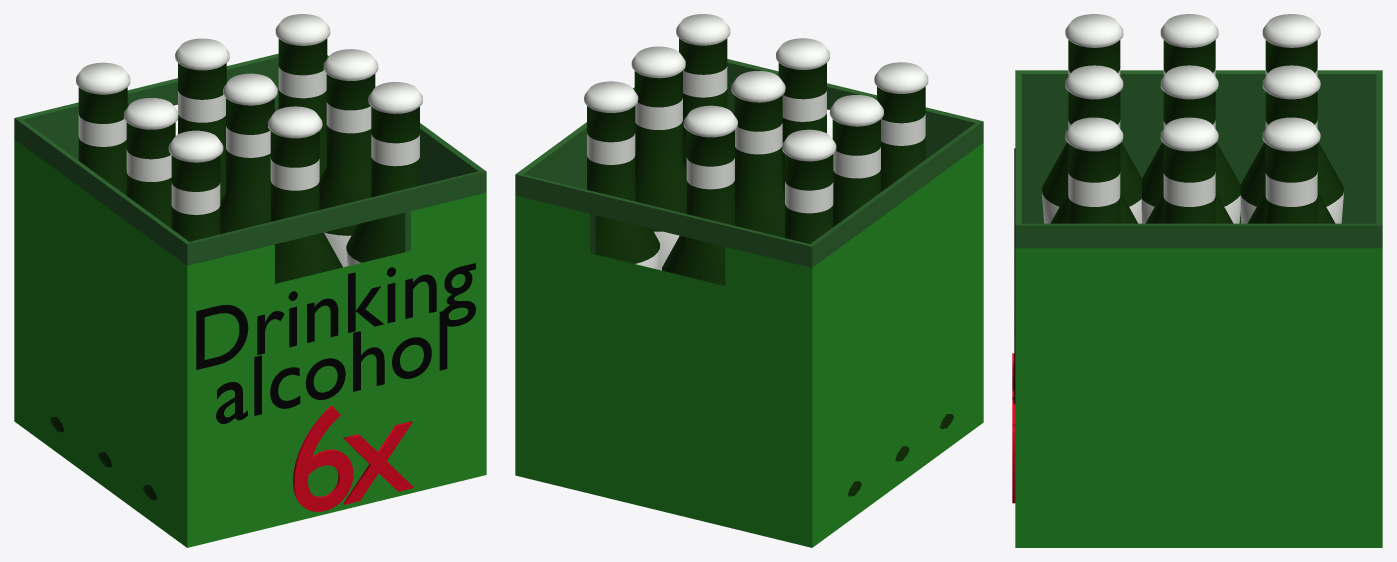
Rendered from ALCOHOL.fbx.
3 renders of one model, left to right at view 1: azimuth 30°, elevation 25°; view 2: azimuth 150°, elevation 25°; view 3: azimuth 270°, elevation 25°, orthographic. The views are drawn at different scales.
Parts seen in each view (by area): view 1: lagayan ng beer, Text.002, Cylinder.007, Cylinder.003, Cylinder.004, Cylinder.006, Cylinder.008, Cylinder.005, Cylinder.002, Text.003, Cylinder.010, Cylinder.009; view 2: lagayan ng beer, Cylinder.007, Cylinder.010, Cylinder.009, Cylinder.006, Cylinder.005, Cylinder.008, Cylinder.002, Cylinder.004, Cylinder.003; view 3: lagayan ng beer, Cylinder.004, Cylinder.007, Cylinder.010, Cylinder.008, Cylinder.002, Cylinder.005, Cylinder.006, Cylinder.003, Cylinder.009, Text.003, Text.002.
Boxes of the visible parts, bbox=[...] form: lagayan ng beer: bbox=[14, 53, 486, 547]; Text.002: bbox=[196, 263, 475, 423]; Cylinder.007: bbox=[319, 49, 378, 267]; Cylinder.003: bbox=[268, 106, 342, 283]; Cylinder.004: bbox=[346, 82, 422, 265]; Cylinder.006: bbox=[220, 73, 277, 234]; Cylinder.008: bbox=[50, 62, 130, 432]; Cylinder.005: bbox=[98, 98, 178, 467]; Cylinder.002: bbox=[143, 130, 223, 500]; Text.003: bbox=[293, 405, 414, 511]; Cylinder.010: bbox=[275, 14, 330, 178]; Cylinder.009: bbox=[175, 38, 229, 201]; lagayan ng beer: bbox=[515, 59, 983, 547]; Cylinder.007: bbox=[631, 46, 686, 270]; Cylinder.010: bbox=[584, 81, 660, 269]; Cylinder.009: bbox=[662, 105, 737, 285]; Cylinder.006: bbox=[731, 71, 785, 237]; Cylinder.005: bbox=[829, 95, 909, 461]; Cylinder.008: bbox=[782, 129, 861, 496]; Cylinder.002: bbox=[874, 62, 953, 428]; Cylinder.004: bbox=[676, 14, 730, 169]; Cylinder.003: bbox=[776, 38, 829, 191]; lagayan ng beer: bbox=[1015, 70, 1382, 547]; Cylinder.004: bbox=[1065, 117, 1123, 223]; Cylinder.007: bbox=[1160, 117, 1218, 223]; Cylinder.010: bbox=[1262, 117, 1320, 223]; Cylinder.008: bbox=[1240, 14, 1344, 223]; Cylinder.002: bbox=[1041, 14, 1141, 223]; Cylinder.005: bbox=[1141, 14, 1240, 223]; Cylinder.006: bbox=[1145, 65, 1233, 223]; Cylinder.003: bbox=[1050, 65, 1137, 223]; Cylinder.009: bbox=[1247, 65, 1335, 223]; Text.003: bbox=[1012, 353, 1015, 503]; Text.002: bbox=[1014, 148, 1015, 404].
Size of the model in its own units: 1372 by 1608 by 1375.
